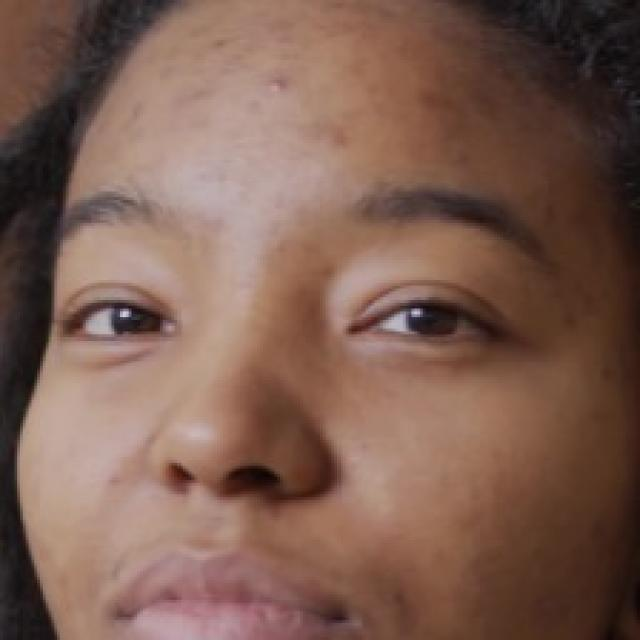Acne: (124, 20, 559, 208)
